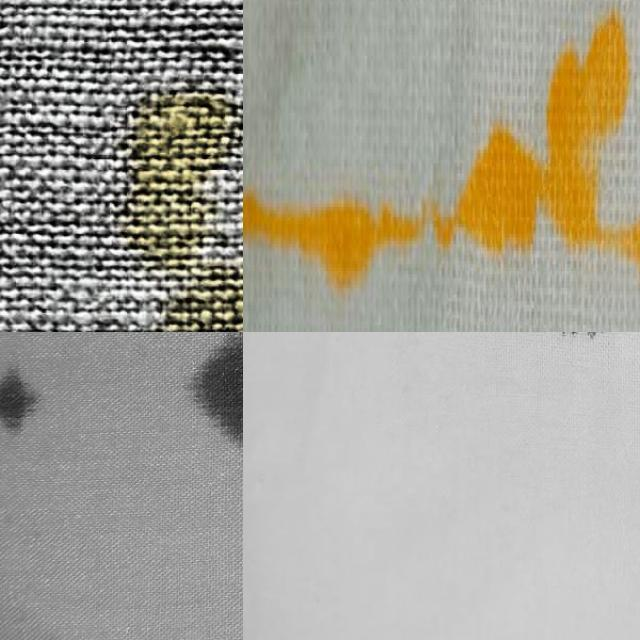Hole: (243, 0, 640, 332), (77, 70, 243, 332), (161, 332, 243, 471), (0, 351, 85, 469)
